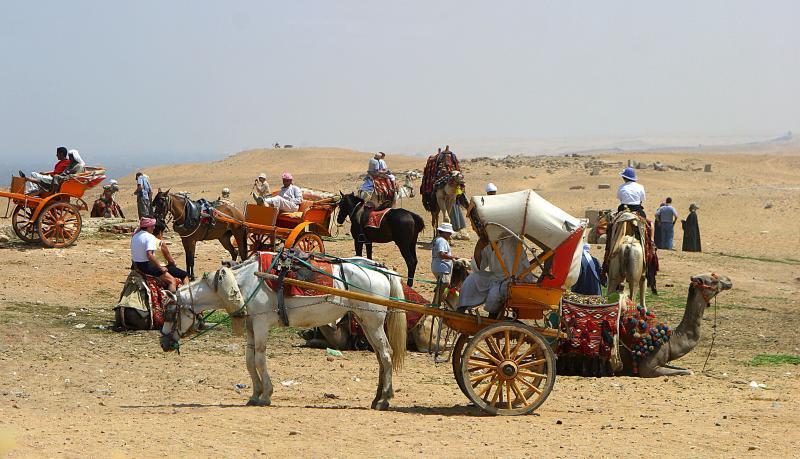horse: (153, 250, 411, 411), (147, 186, 246, 278), (332, 189, 423, 288), (601, 206, 658, 308)
